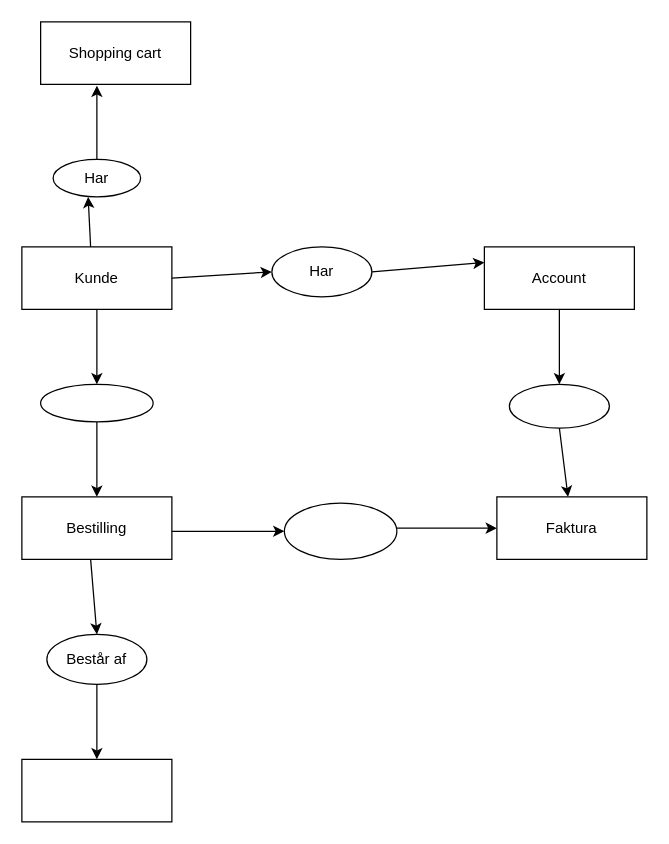
This 669x844 diagram has some shape labels left out. Here are the shapes that lost their labels. From the top down, the centre of each, then its label:
At [96,402]: "Laver".
At [558,405]: "Gemmer".
At [340,530]: "Producerer".
At [96,790]: "Cupcakes".
